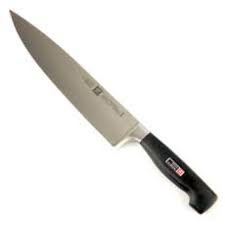kuchillu: (5, 5, 220, 216)
